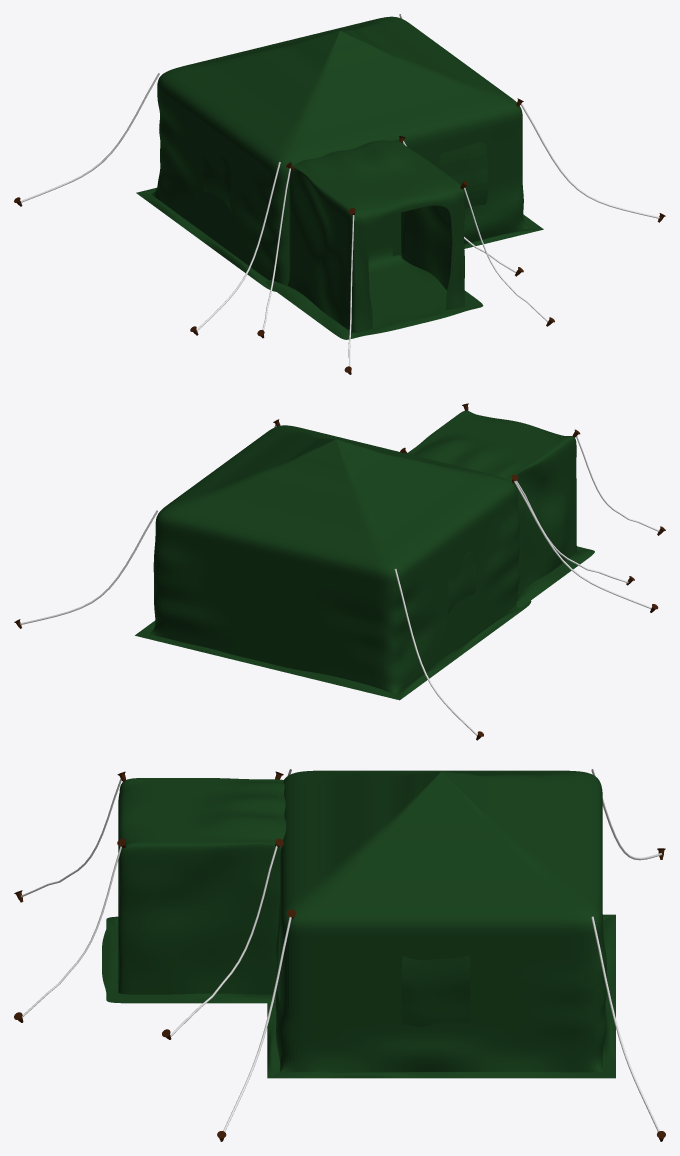
The model's file is Barrack.fbx.
3 views of the same model, one above another, from view 1: azimuth 30°, elevation 25°; view 2: azimuth 150°, elevation 25°; view 3: azimuth 270°, elevation 25° (orthographic). The views are drawn at different scales.
Parts seen in each view (by area): view 1: Cube.001; view 2: Cube.001; view 3: Cube.001.
Part boxes in pixels (x1,y1,x2,y2): Cube.001: (14, 14, 665, 374); Cube.001: (14, 403, 665, 740); Cube.001: (14, 769, 665, 1141).
Size of the model in its own units: 831 by 307 by 792.
